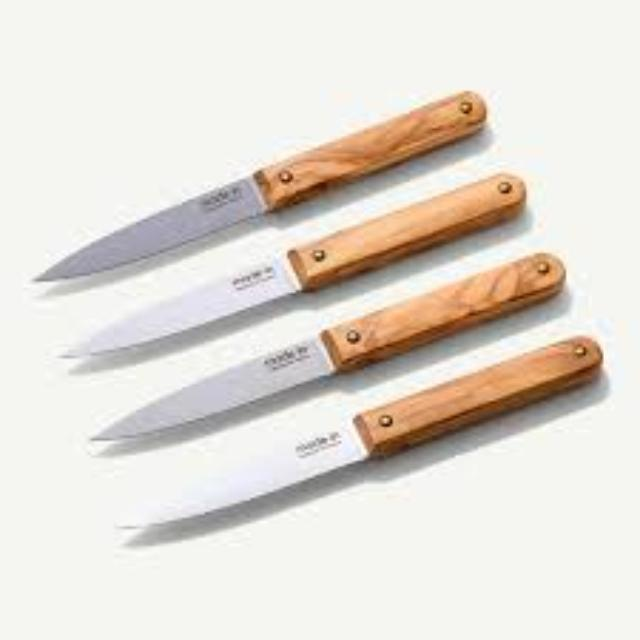knife: (113, 333, 602, 529), (86, 251, 566, 444), (28, 88, 486, 282), (58, 172, 526, 358)
